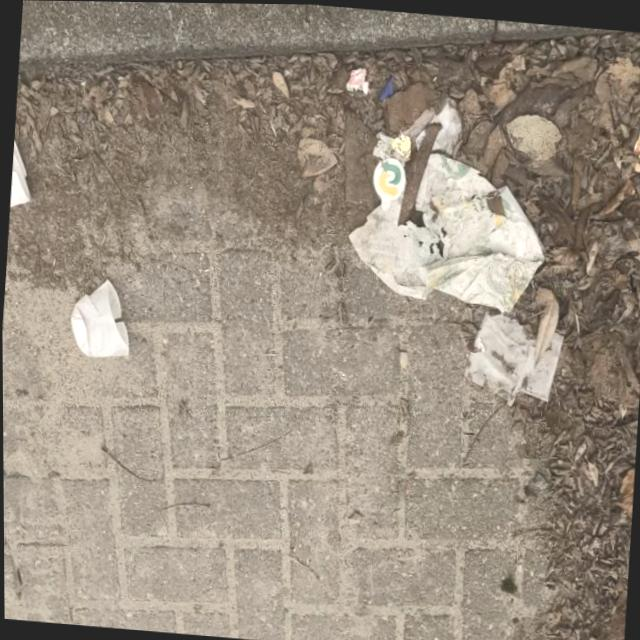Cup: (67, 280, 134, 363)
